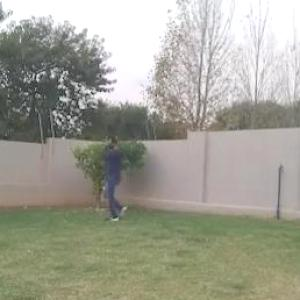follow: (100, 126, 126, 229)
